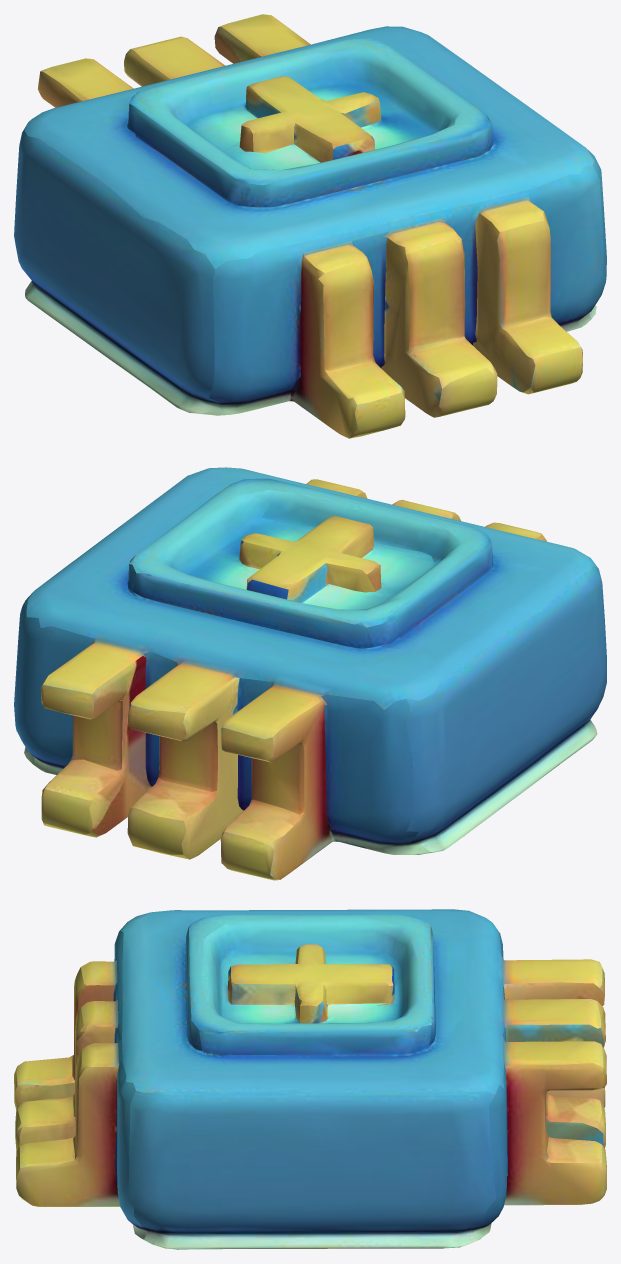
File: datachip.glb
3 renders of one model, top to bottom at view 1: azimuth 30°, elevation 25°; view 2: azimuth 150°, elevation 25°; view 3: azimuth 270°, elevation 25°, orthographic. The views are drawn at different scales.
Parts seen in each view (by area): view 1: item_datachip; view 2: item_datachip; view 3: item_datachip.
Part boxes in pixels (x1,y1,x2,y2): item_datachip: (14, 14, 606, 438); item_datachip: (14, 467, 606, 880); item_datachip: (14, 909, 606, 1249).
Size of the model in its own units: 0.7705 by 0.3395 by 1.
Materials: 1 (1 with a texture image).
